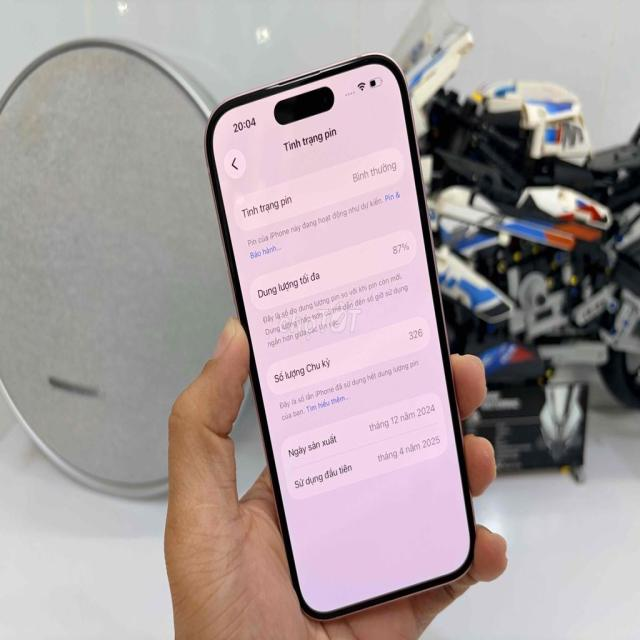gen_15: (197, 49, 485, 618)
